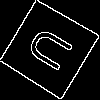U: (24, 24, 83, 79)
